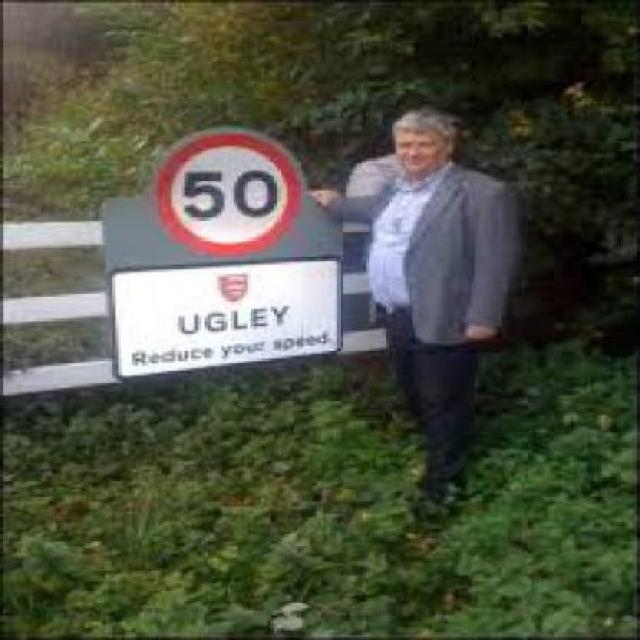forb_speed_over_50: (158, 136, 294, 255)
